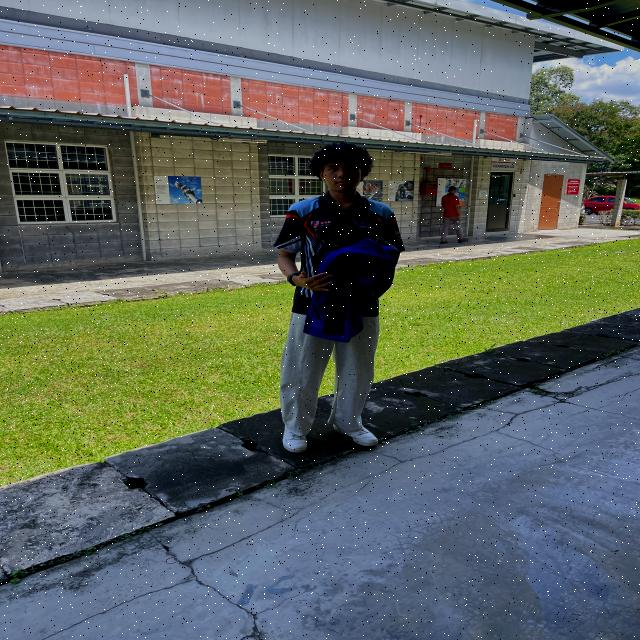person_without_labcoat: (274, 143, 404, 454)
